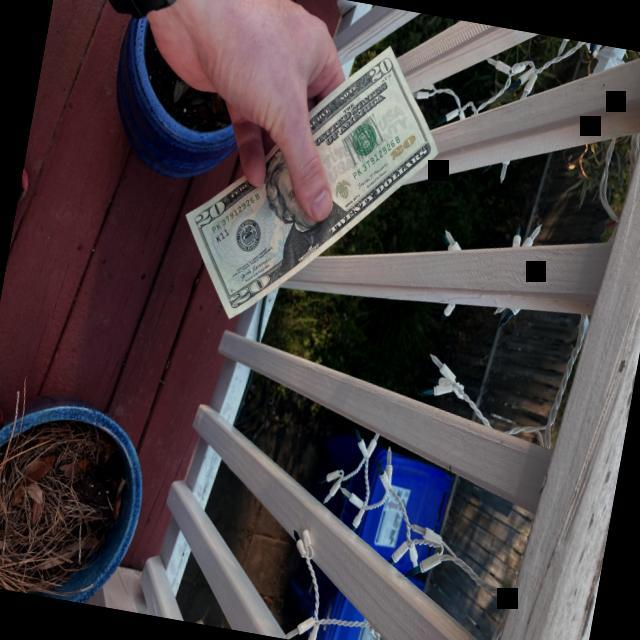twenty: (182, 45, 438, 320)
